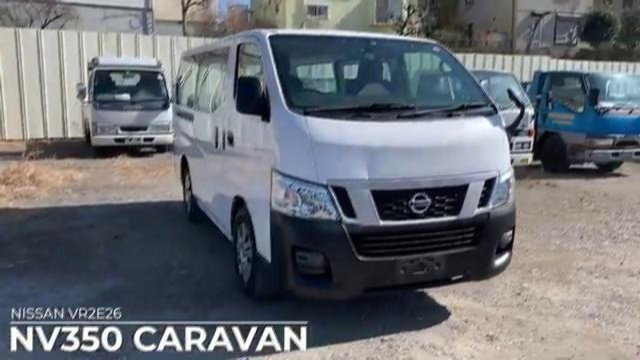van: (169, 28, 520, 300)
